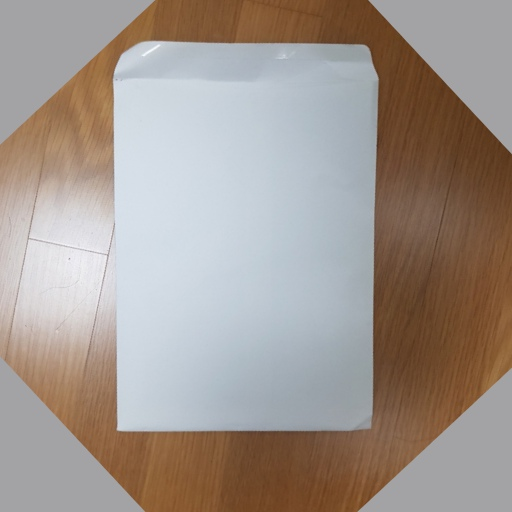Paper_2: (107, 34, 387, 450)
